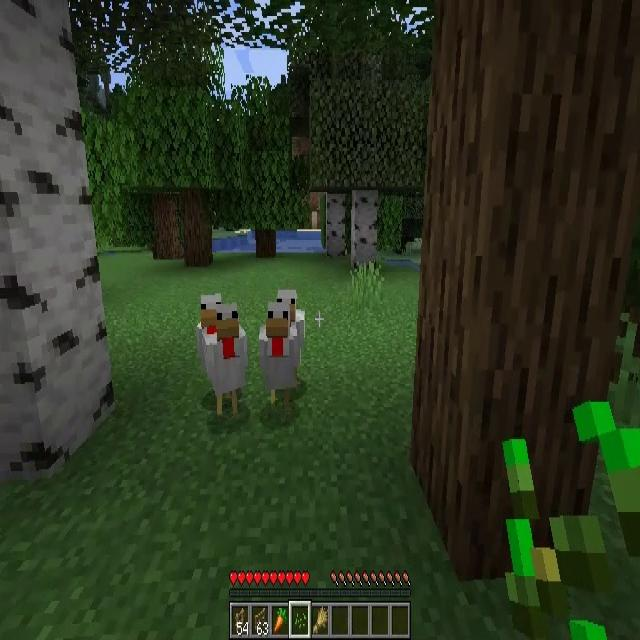duck: (206, 306, 248, 416), (256, 302, 298, 397), (277, 290, 305, 372), (198, 294, 227, 362)
